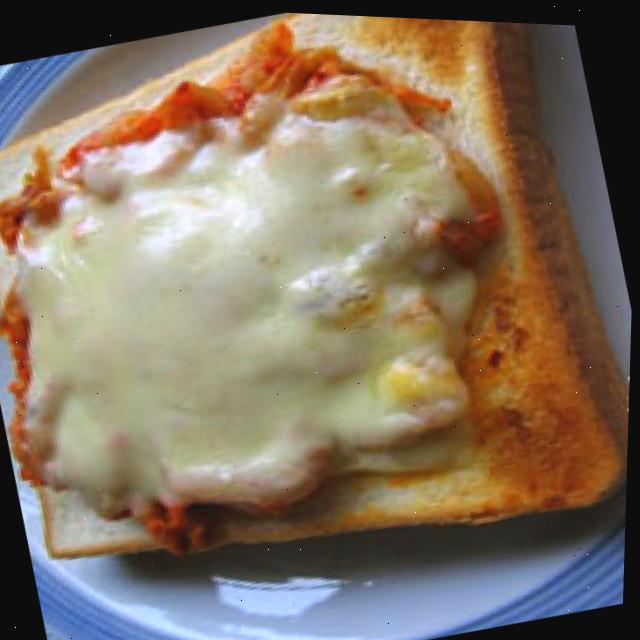面包点心: (0, 0, 634, 626)
